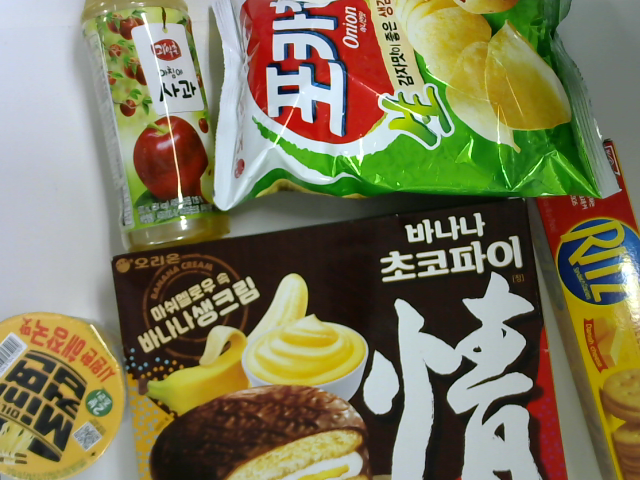Choco_Pie_Banana: (107, 199, 572, 480)
Hejangmini: (1, 312, 129, 480)
Morning_Apple_500ml: (79, 1, 235, 257)
Pocachip_Onion: (208, 1, 622, 218)
Ritz_Sand_Cracker: (533, 141, 640, 480)
